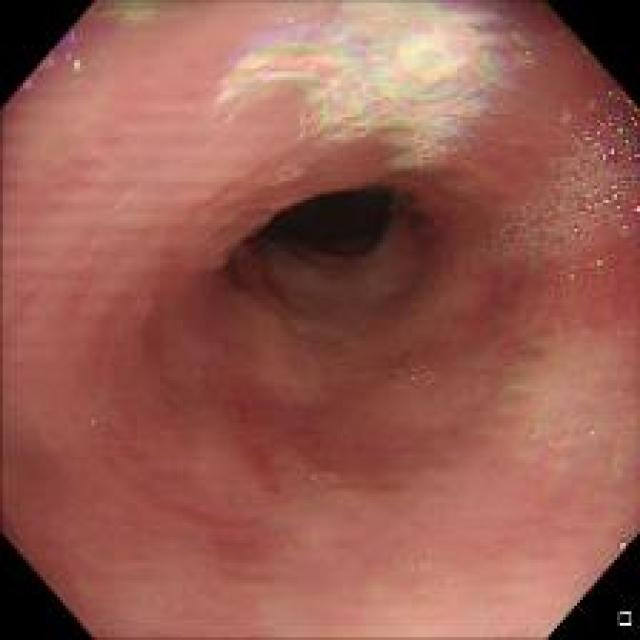bubbles: (464, 85, 634, 275), (391, 349, 439, 388), (514, 412, 544, 446), (550, 422, 579, 455), (580, 415, 610, 445), (282, 14, 301, 34), (395, 14, 414, 29)
color misalignment: (222, 1, 532, 168), (582, 94, 634, 230), (12, 19, 89, 96), (222, 209, 276, 265)
contrast: (221, 174, 422, 299)
